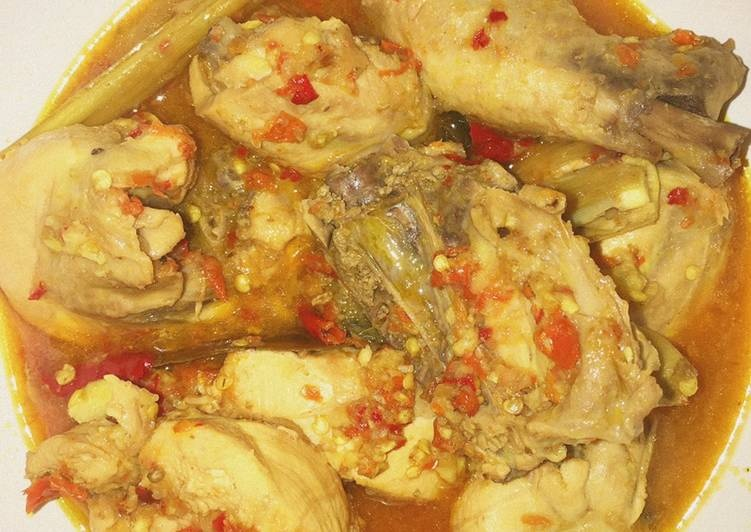ayam_betutu: (7, 2, 751, 532)
